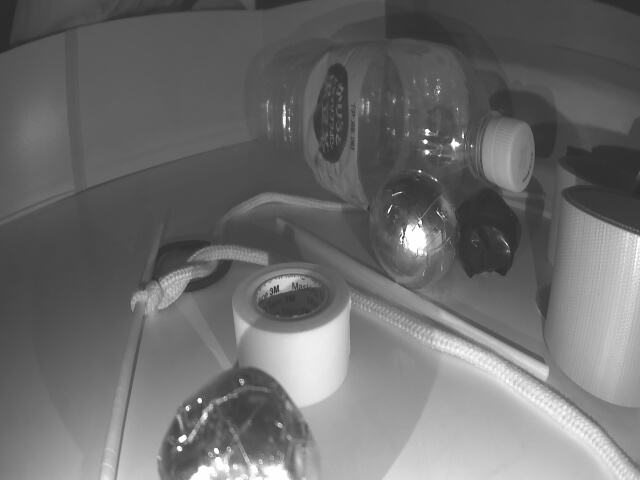Dead: (456, 187, 521, 276)
Live: (160, 363, 320, 480), (367, 175, 463, 287)
